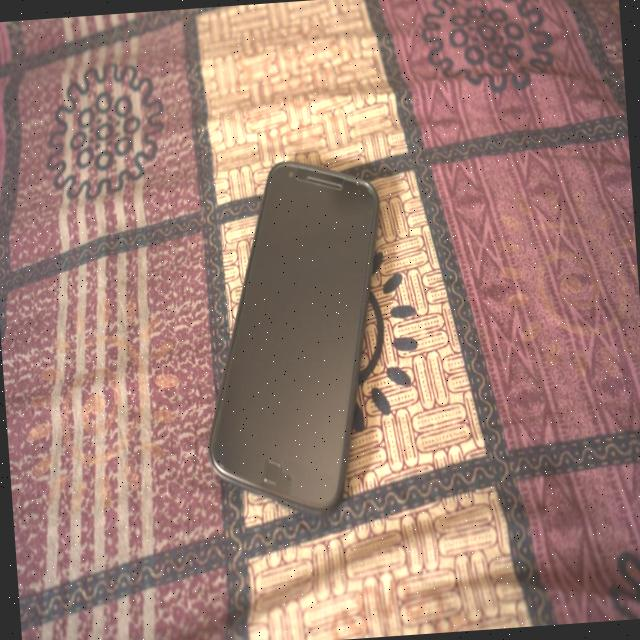Phone: (185, 150, 402, 536)
